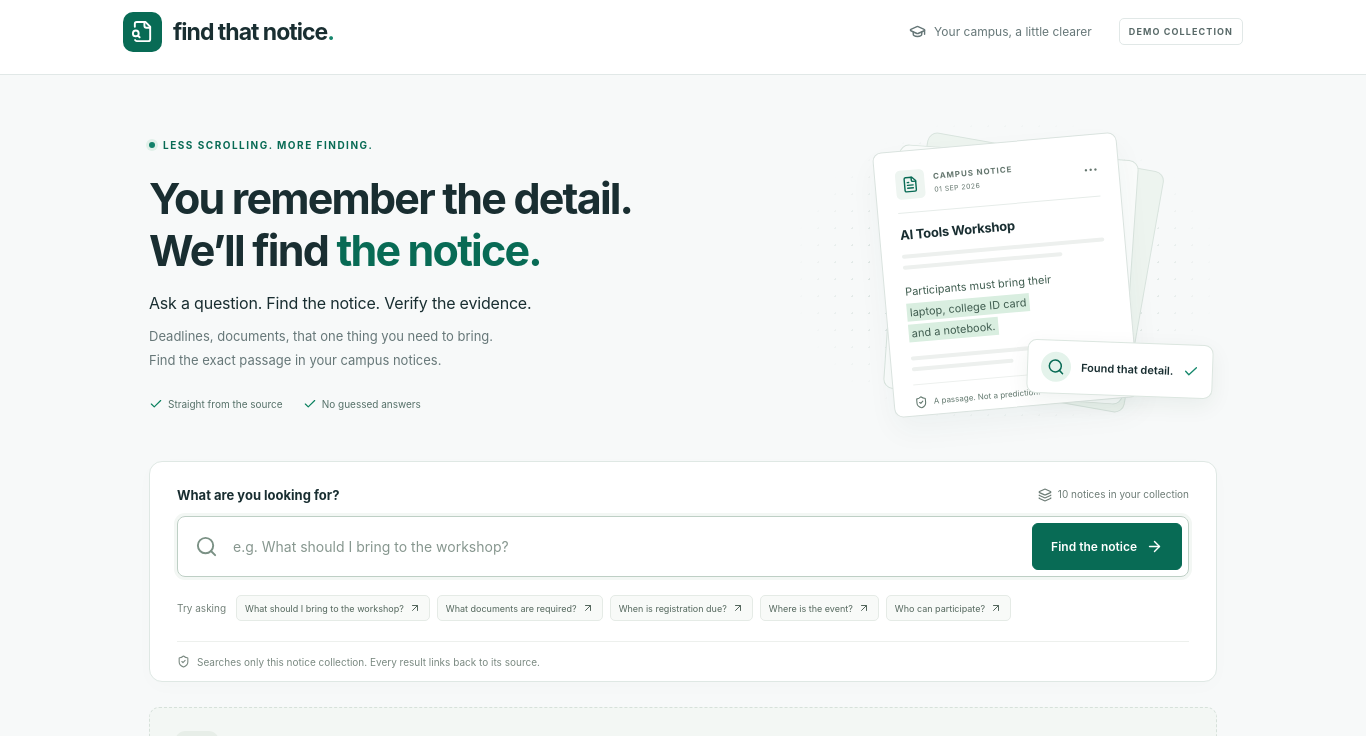
Test: Evidence search › runs an example and opens the full source notice
The image size is (1366, 736).
Step 1. Click the button "What should I bring to the workshop?" → (333, 608), box [236,595,430,621]
(page scrolled)
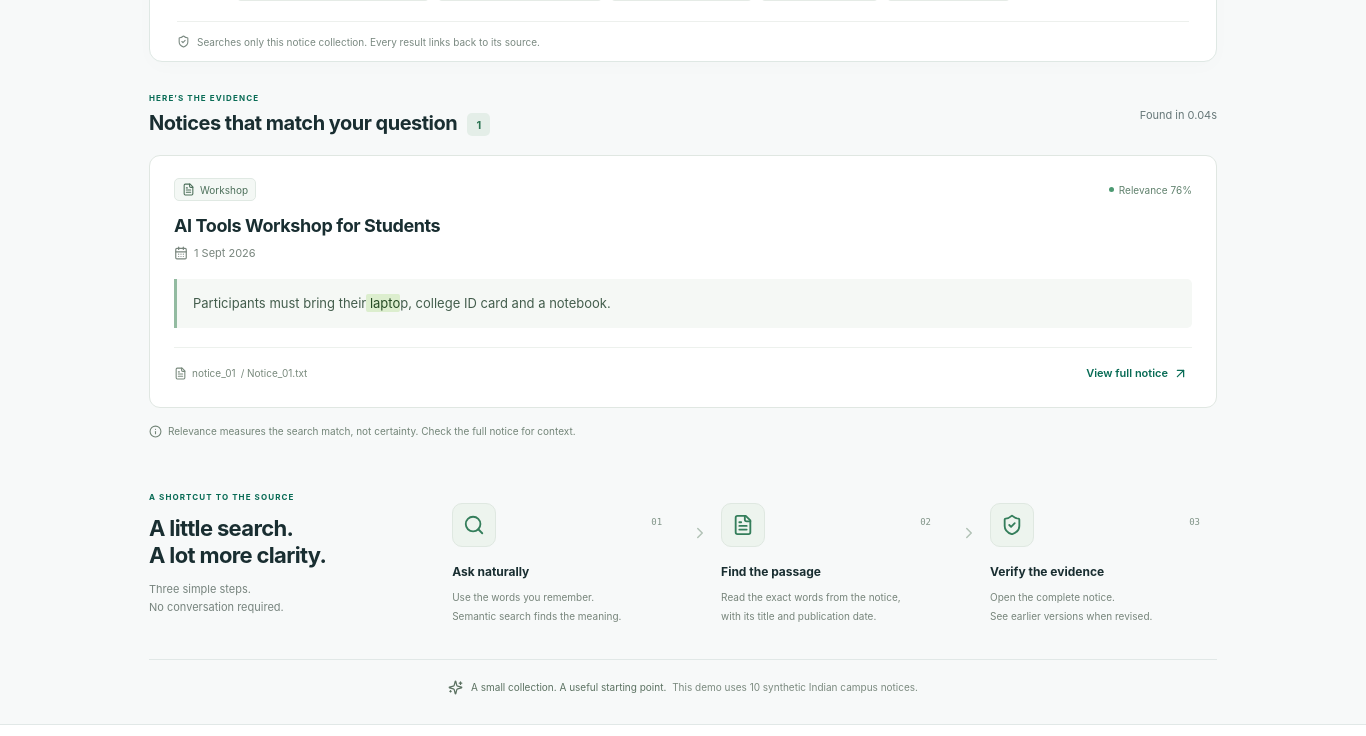
Check: the heading "AI Tools Workshop for Students" is shown, box [174,215,440,236]
Check: the element that starts with "Participants must bring their" reads "Participants must bring their laptop, college ID card and a notebook.", box [174,279,1192,328]
Step 2. Click the button "View full notice" → (1137, 373), box [1082,362,1192,385]
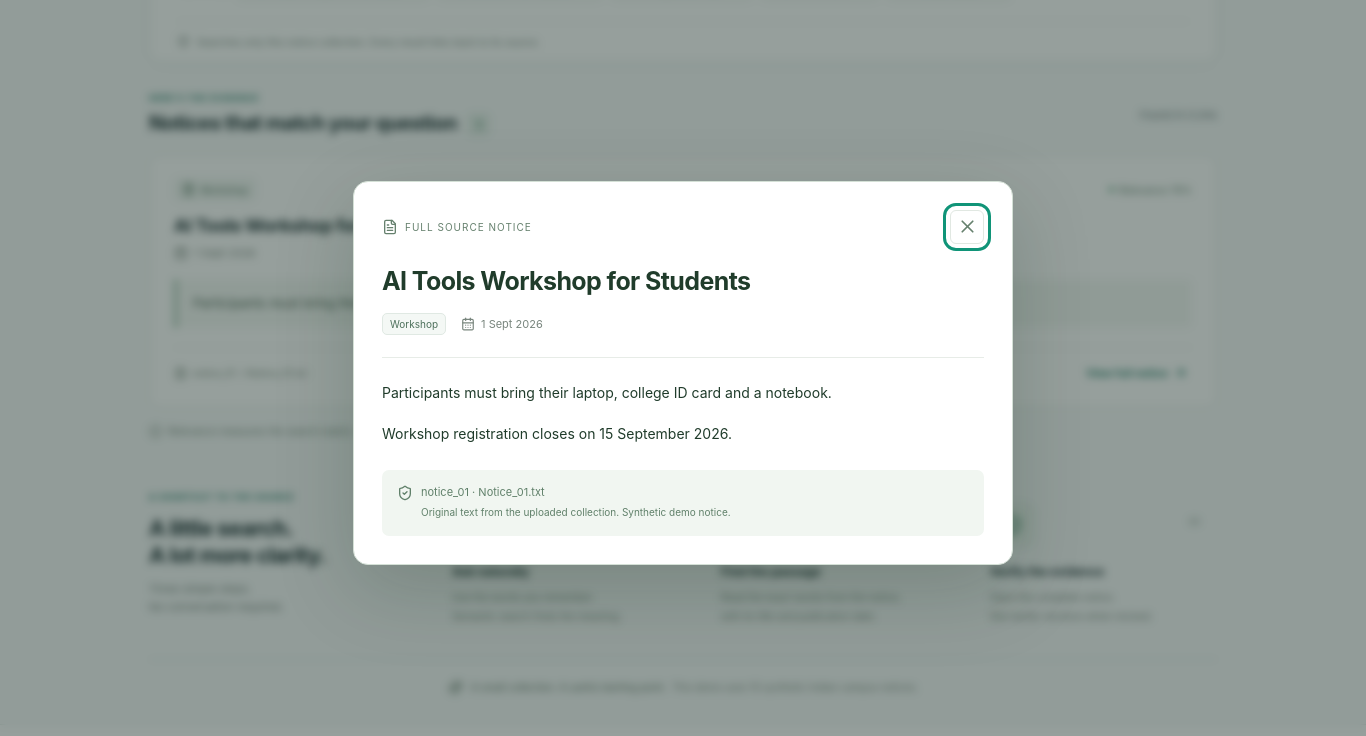
Check: the text "Workshop registration closes on 15 September 2026." is shown, box [382,425,732,442]
Step 3. Click the button named "Close full notice" → (967, 227), box [950,210,984,244]
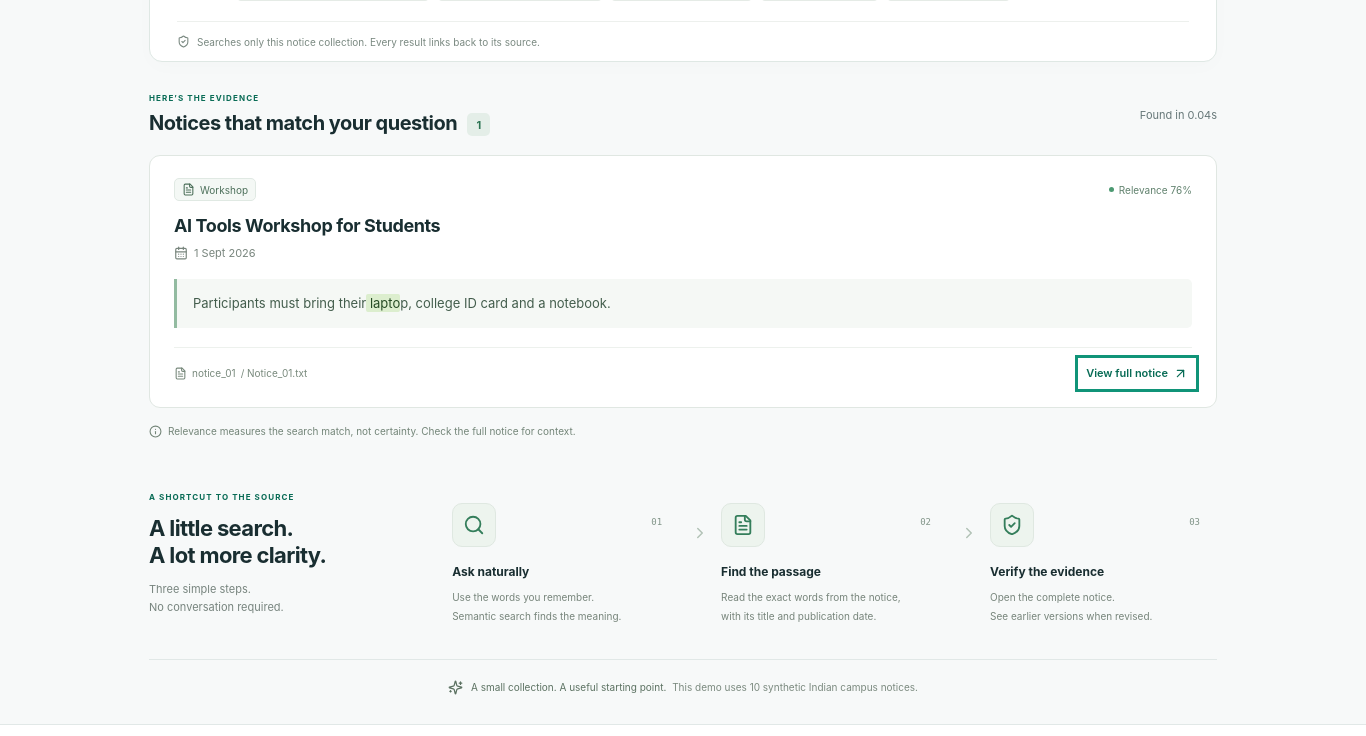
Check: the dialog is gone
